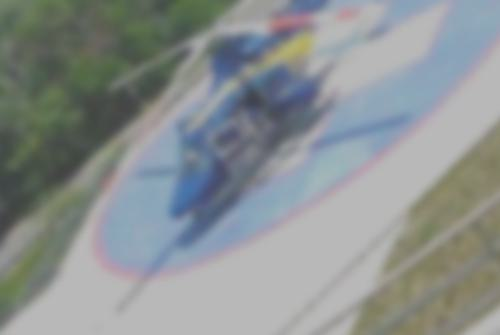Apron: (93, 1, 498, 284)
